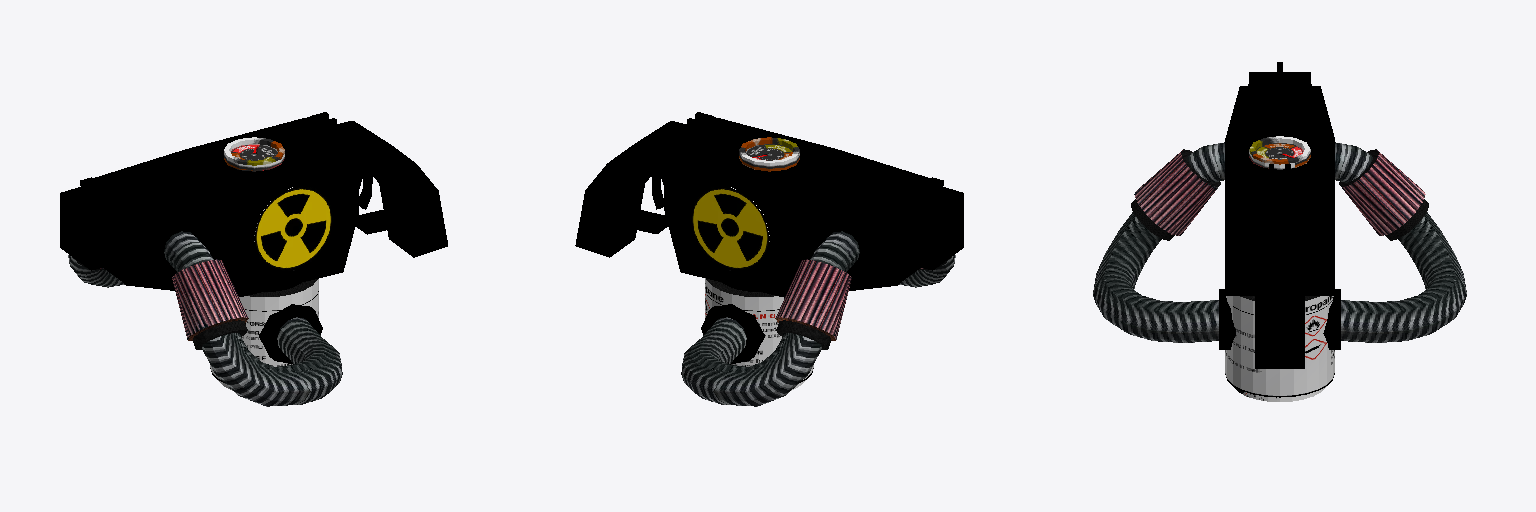
3 renders of one model, left to right at view 1: azimuth 30°, elevation 25°; view 2: azimuth 150°, elevation 25°; view 3: azimuth 270°, elevation 25°, orthographic.
Parts seen in each view (by area): view 1: polySurface16; view 2: polySurface16; view 3: polySurface16.
Part boxes in pixels (left/top/right/bottom): polySurface16: left=60, top=112, right=447, bottom=406; polySurface16: left=575, top=112, right=963, bottom=406; polySurface16: left=1093, top=62, right=1466, bottom=401.
Size of the model in its own units: 482 by 311 by 433.
Materials: 6 (5 with a texture image).